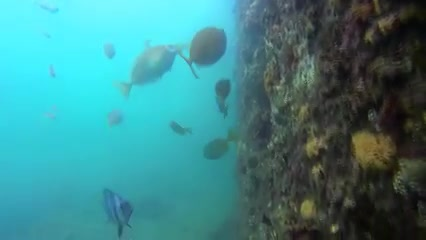smallfish: (112, 37, 181, 103), (177, 20, 233, 80), (197, 122, 252, 168)
